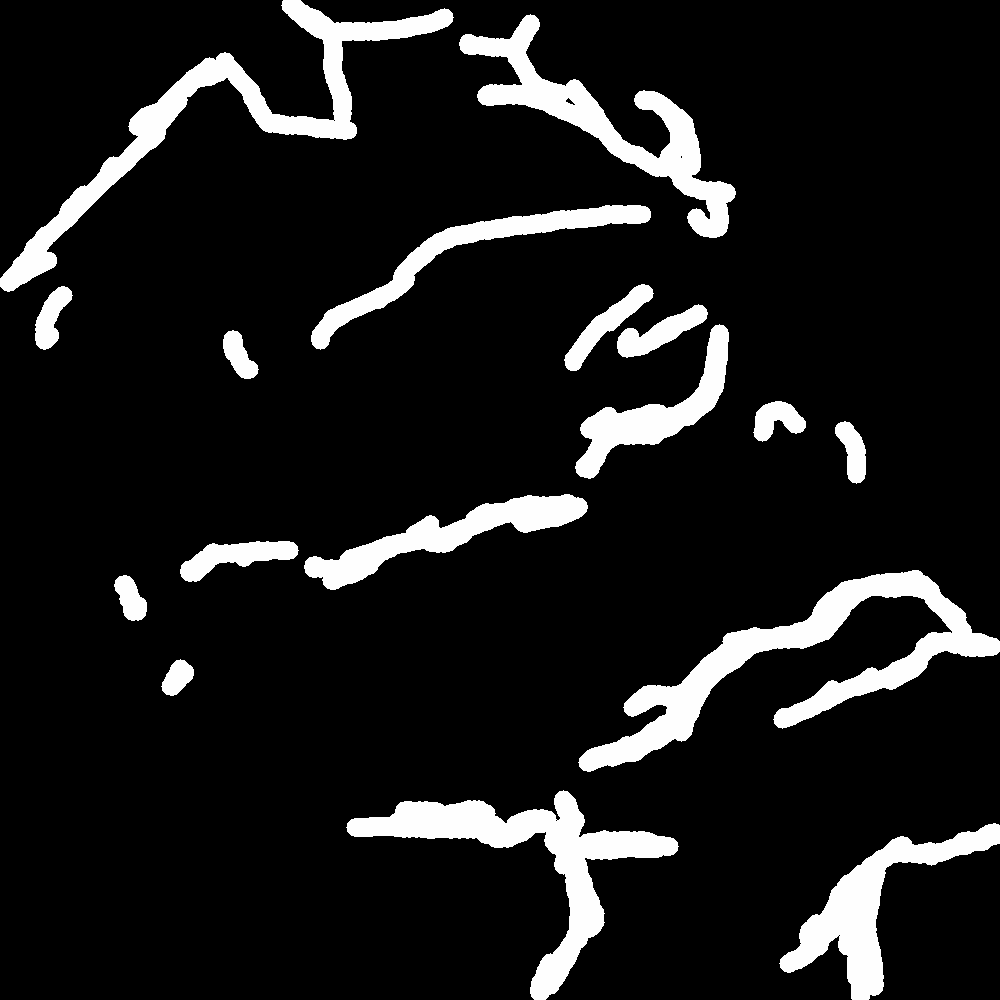illegal: (581, 570, 1000, 780), (287, 205, 618, 383), (463, 18, 736, 199), (779, 825, 1000, 1000), (578, 281, 746, 475), (537, 788, 671, 1000), (318, 489, 585, 590), (143, 56, 325, 148), (112, 528, 300, 615), (37, 280, 115, 448), (349, 798, 548, 863), (286, 1, 451, 48), (217, 247, 247, 426), (326, 59, 359, 145)
